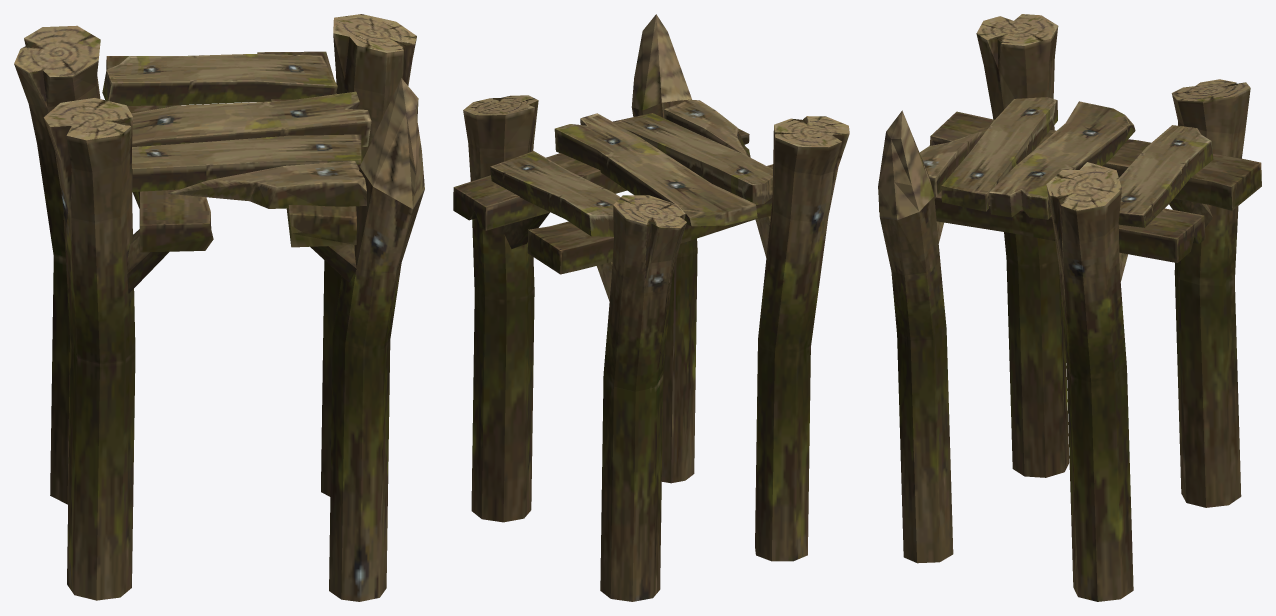
Rendered from DuanQiao.fbx.
3 renders of one model, left to right at view 1: azimuth 30°, elevation 25°; view 2: azimuth 150°, elevation 25°; view 3: azimuth 270°, elevation 25°, orthographic. The views are drawn at different scales.
Parts seen in each view (by area): view 1: DuanQiao; view 2: DuanQiao; view 3: DuanQiao.
Part boxes in pixels (x1,y1,x2,y2): DuanQiao: (14,14,424,601); DuanQiao: (453,14,849,601); DuanQiao: (878,14,1261,601).
Size of the model in its own units: 485 by 601 by 458.
